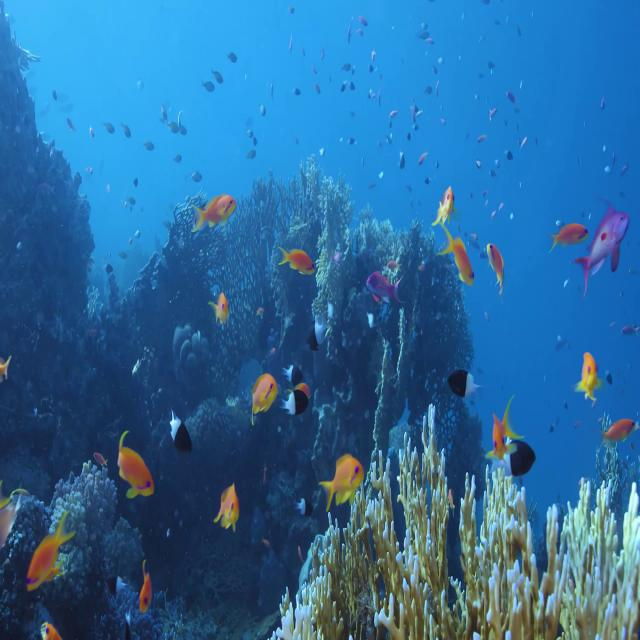fish: (21, 512, 72, 584), (582, 210, 630, 278), (117, 439, 157, 504), (322, 448, 364, 509), (490, 436, 533, 482), (196, 188, 236, 236), (248, 368, 280, 422), (276, 246, 324, 277), (489, 246, 502, 304)
